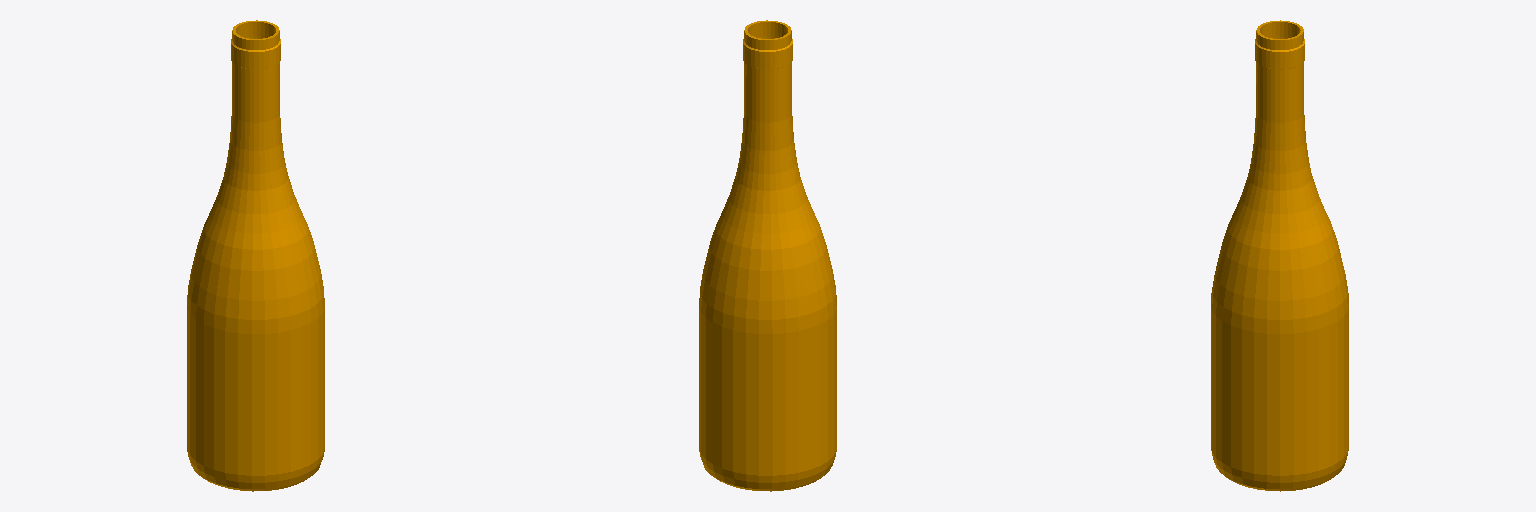
The robot description file, URDF, robot "wine_bottle":
<?xml version="1.0"?>
<!-- GENERATED by tasks/libero/build_env/build_object_urdf.py. Do not hand edit.

     LIBERO object `wine_bottle`, spawnable by the TRO-MP env.
     Role: graspable target object (envs/), one of the 22 LIBERO target assets.

     WHY a URDF when envs/wine_bottle/ may also hold a USD: this env spawns objects
     only through `assets.object_urdf` (scene_utils.py:1929, which calls
     _convert_urdf_to_usd at :1964). The assets dataclass declares no USD field,
     so a ready-made USD cannot be handed to this code path.

     Mesh coordinates are PRESERVED, not re-centred: 11 of 22 LIBERO envs have
     their mesh origin at the object's base, and `goal_traj` tracks that origin.
     Re-centring would offset the object from its own trajectory every frame.

     Mass: mesh not watertight (signed volume -7.474e-05); used 0.5 x bbox volume 2.874877e-04 m^3 at 800.0 kg/m^3
     Inertia: solid-box approximation about the COM at that mass, NOT the true
     mesh inertia tensor. Adequate for a graspable tabletop object; revisit if
     spin dynamics matter.

     Collision: the full mesh, decomposed by Isaac's URDF importer. The convex
     decomposition authored in the DexVerse USD is NOT reproduced here.
-->
<robot name="wine_bottle">
  <link name="wine_bottle">
    <inertial>
      <origin xyz="0.000000 -0.000025 0.075698" rpy="0 0 0"/>
      <mass value="0.114995"/>
      <inertia ixx="2.378673e-04" ixy="0" ixz="0" iyy="2.378251e-04" iyz="0" izz="3.639417e-05"/>
    </inertial>
    <visual>
      <origin xyz="0 0 0" rpy="0 0 0"/>
      <geometry><mesh filename="wine_bottle.obj" scale="1 1 1"/></geometry>
    </visual>
    <collision>
      <origin xyz="0 0 0" rpy="0 0 0"/>
      <geometry><mesh filename="wine_bottle.obj" scale="1 1 1"/></geometry>
    </collision>
  </link>
</robot>

--- What the picture shows (computed from the rendered views, not written in the file) ---
Views: 3 orthographic renders of the robot side by side, from view 1: azimuth 30°, elevation 25°; view 2: azimuth 150°, elevation 25°; view 3: azimuth 270°, elevation 25°.
Model wine_bottle with 1 links and 0 joints (none), rooted at wine_bottle, posed every joint at zero.
Links seen in each view (by area): view 1: wine_bottle; view 2: wine_bottle; view 3: wine_bottle.
Link boxes in pixels (x1,y1,x2,y2): wine_bottle: (187, 20, 324, 491); wine_bottle: (699, 20, 836, 491); wine_bottle: (1211, 20, 1348, 491).
Bounding box of the posed robot: 0.0436 × 0.0436 × 0.1514 m (x, y, z).
Meshes: 1 distinct files referenced, 1 mesh visuals loaded (1 OBJ).
